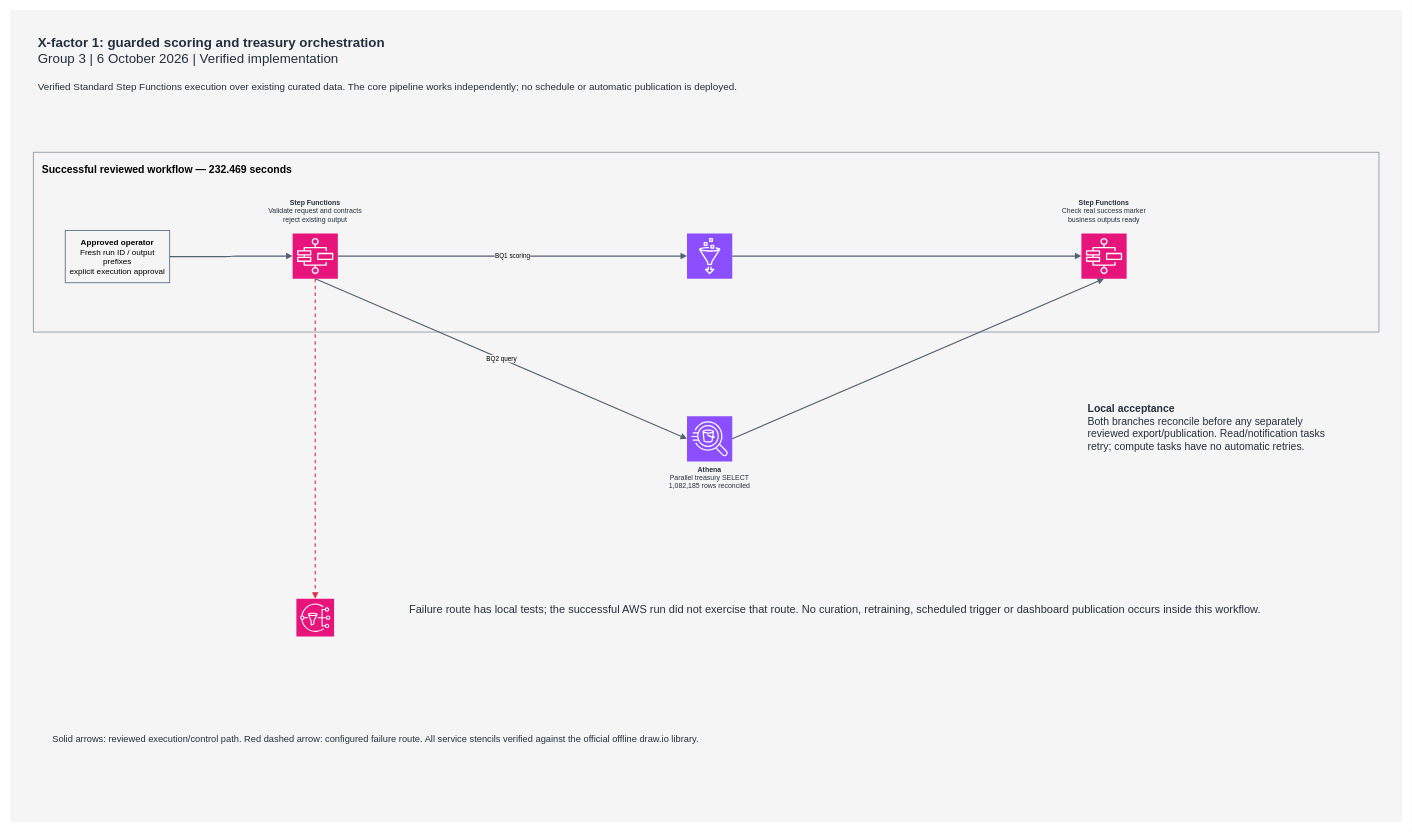
This 1412x832 diagram has some shape labels left out. Each missing label, with the box of its shape:
Glue scoring Frozen model 5,078,345 scores reconciled: (686, 233, 732, 279)
SNS failures Catchable failures notify then workflow fails: (296, 598, 334, 637)
